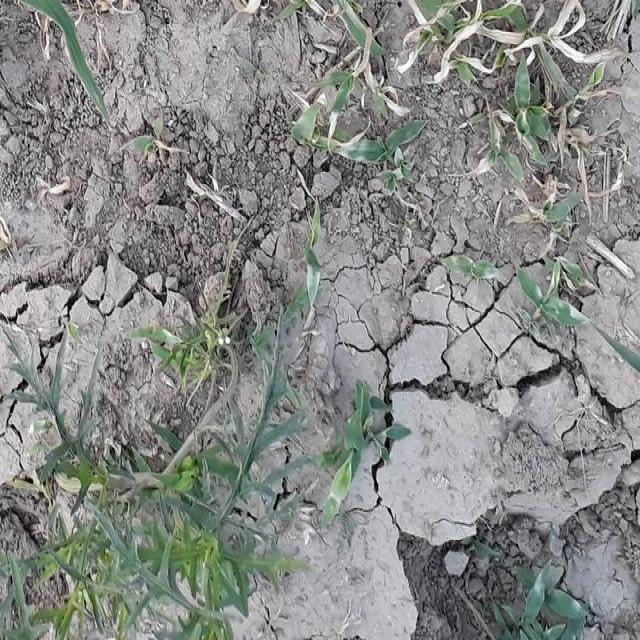weed: (0, 301, 414, 639), (300, 0, 594, 217)
